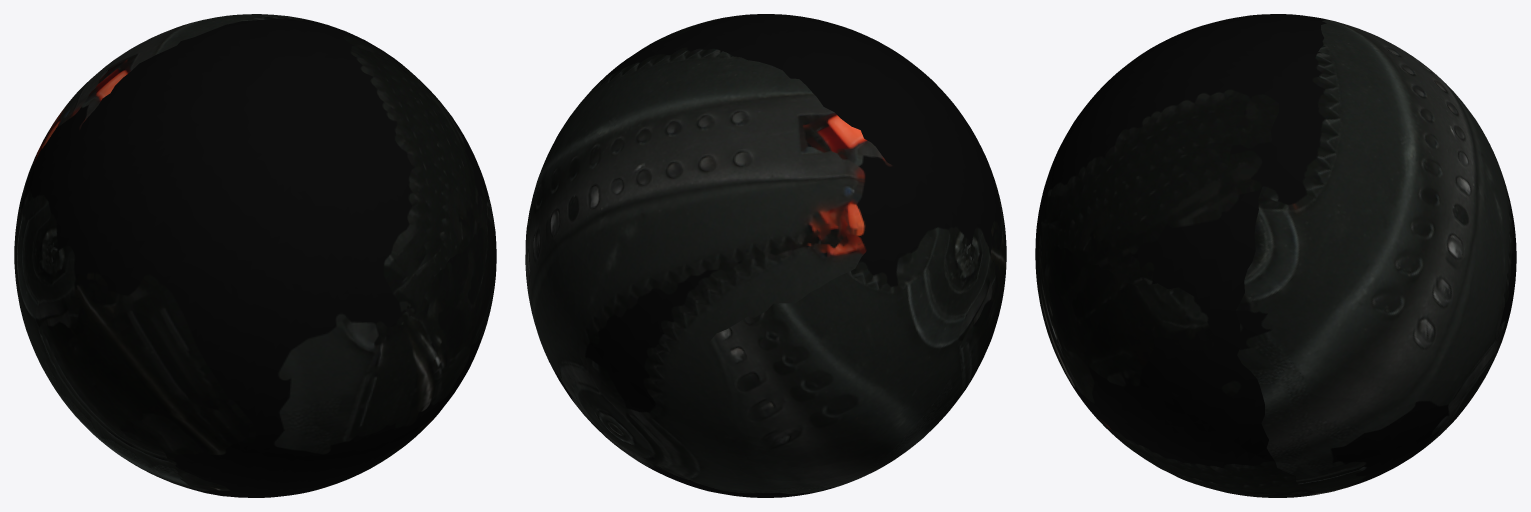
3 views of the same model, side by side, from view 1: azimuth 30°, elevation 25°; view 2: azimuth 150°, elevation 25°; view 3: azimuth 270°, elevation 25° (orthographic).
Visible parts, largest first — view 1: node; view 2: node; view 3: node.
Part boxes in pixels (bbox=[...]): node: bbox=[14, 14, 496, 497]; node: bbox=[525, 14, 1006, 497]; node: bbox=[1035, 14, 1516, 497].
Size of the model in its own units: 0.0558 by 0.0561 by 0.0556.
